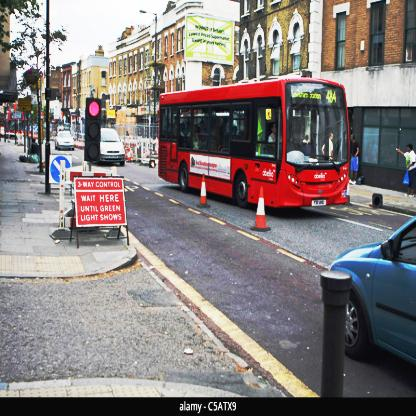Keep right: (52, 149, 72, 185)
